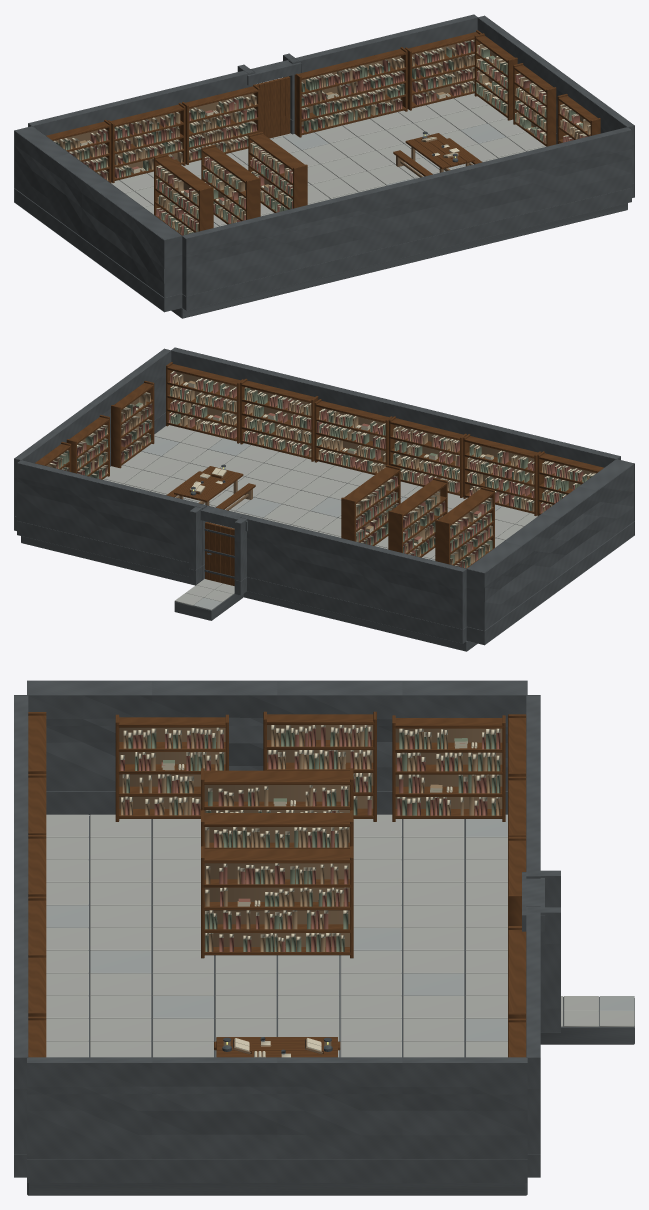
The model's file is retreat_round2_a4.glb.
The picture shows the model from 3 angles, top to bottom: view 1: azimuth 30°, elevation 25°; view 2: azimuth 150°, elevation 25°; view 3: azimuth 270°, elevation 25°; orthographic projection. The views are drawn at different scales.
Visible parts, largest first — view 1: North_Wall_Upper.001, CANON_Floor_Library, West_Wall_Upper, CANON_South_Bookcase_2, North_Wall_Base.001, CANON_South_Bookcase_0, CANON_South_Bookcase_1, Expanded_South_Bookcase_East, South_Wall_West_Upper, CANON_Independent_Shelf_1, East_Wall_Upper.001, South_Wall_East_Upper (+11 smaller); view 2: CANON_Floor_Library, South_Wall_West_Upper, West_Wall_Upper, South_Wall_East_Upper, North_Wall_Upper.001, Expanded_North_Bookcase_4, Expanded_North_Bookcase_5, CANON_North_Bookcase_3, CANON_North_Bookcase_1, CANON_North_Bookcase_2, East_Wall_Upper.001, CANON_Independent_Shelf_1 (+16 smaller); view 3: CANON_Floor_Library, East_Wall_Upper.001, West_Wall_Upper, CANON_Independent_Shelf_3, East_Wall_Base.001, CANON_West_Bookcase_0, Expanded_West_Bookcase_North, CANON_West_Bookcase_1, North_Wall_Upper.001, CANON_Independent_Shelf_1, CANON_Independent_Shelf_2, CANON_Floor_Entry_Threshold (+18 smaller).
Part boxes in pixels (x1,y1,x2,y2): North_Wall_Upper.001: (182,127,631,296); CANON_Floor_Library: (111,93,627,318); West_Wall_Upper: (14,126,182,297); CANON_South_Bookcase_2: (294,47,407,137); North_Wall_Base.001: (182,188,631,310); CANON_South_Bookcase_0: (107,103,185,182); CANON_South_Bookcase_1: (182,84,259,164); Expanded_South_Bookcase_East: (405,30,481,110); South_Wall_West_Upper: (28,69,255,135); CANON_Independent_Shelf_1: (154,154,213,235); East_Wall_Upper.001: (477,15,634,183); South_Wall_East_Upper: (288,14,477,120); CANON_Floor_Library: (21,425,537,651); South_Wall_West_Upper: (240,514,466,629); West_Wall_Upper: (466,459,634,630); South_Wall_East_Upper: (17,460,206,565); North_Wall_Upper.001: (171,347,620,467); Expanded_North_Bookcase_4: (240,378,318,461); Expanded_North_Bookcase_5: (166,362,243,443); CANON_North_Bookcase_3: (314,399,392,474); CANON_North_Bookcase_1: (463,434,541,515); CANON_North_Bookcase_2: (389,416,466,497); East_Wall_Upper.001: (14,348,171,516); CANON_Independent_Shelf_1: (435,487,494,568); CANON_Floor_Library: (27,814,527,1195); East_Wall_Upper.001: (27,1057,527,1159); West_Wall_Upper: (27,680,527,791); CANON_Independent_Shelf_3: (201,846,353,958); East_Wall_Base.001: (27,1159,527,1182); CANON_West_Bookcase_0: (392,715,505,821); Expanded_West_Bookcase_North: (115,714,228,821); CANON_West_Bookcase_1: (263,711,376,821); North_Wall_Upper.001: (14,695,28,1153); CANON_Independent_Shelf_1: (201,768,353,812); CANON_Independent_Shelf_2: (201,810,353,848); CANON_Floor_Entry_Threshold: (540,996,634,1044).
Size of the model in its own units: 18.99 by 3.2 by 13.02.
12 materials, 2 textured.
